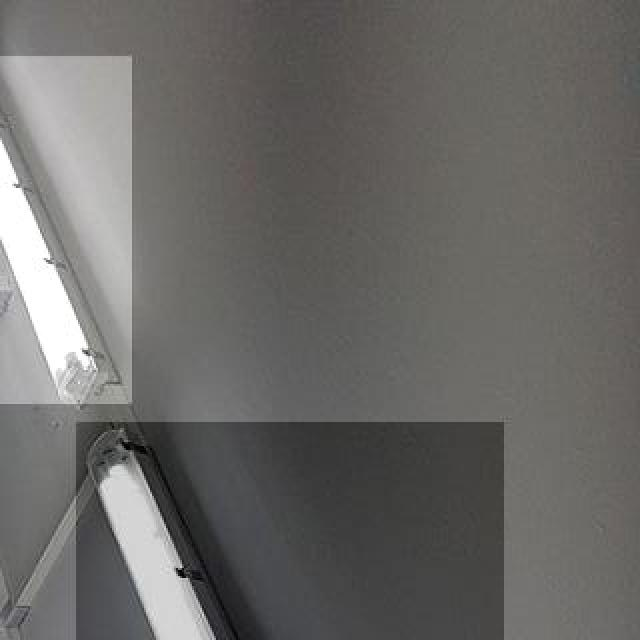fluorescent tube: (90, 428, 488, 640), (0, 58, 106, 410), (0, 2, 8, 72)
